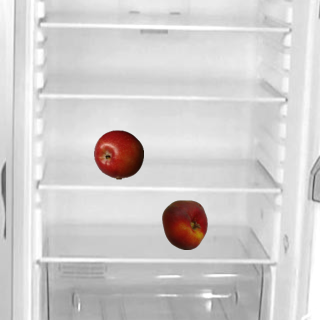Apple Braeburn: (93, 129, 143, 179)
Nectarine Flat: (159, 199, 209, 249)
